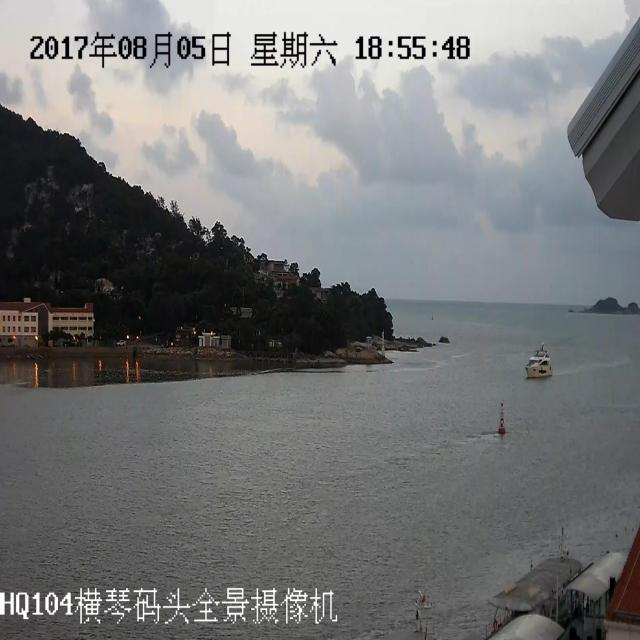buoy: (486, 384, 508, 436)
passenger ship: (525, 325, 554, 383)
reef: (571, 277, 640, 328)
